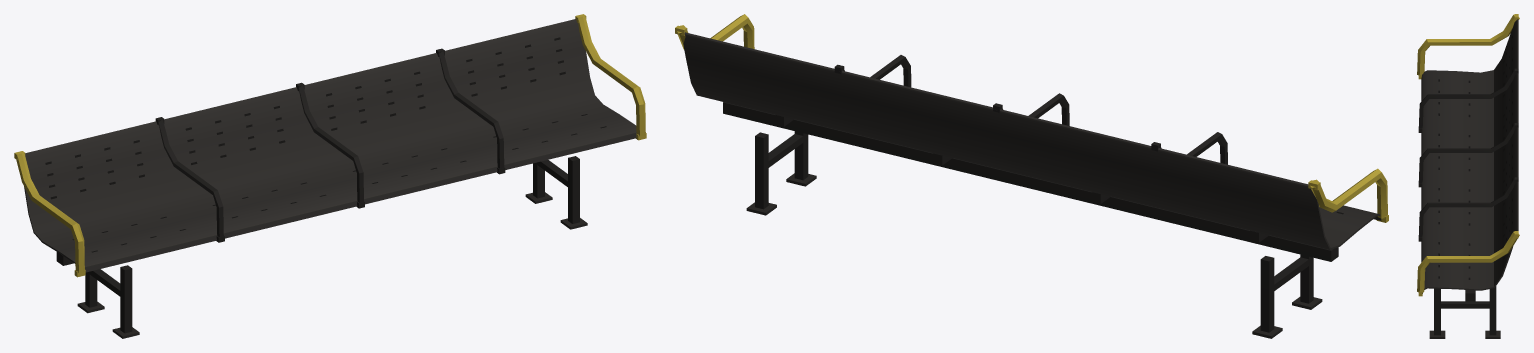
File: station_bench_long.glb
The picture shows the model from 3 angles, left to right: view 1: azimuth 30°, elevation 25°; view 2: azimuth 150°, elevation 25°; view 3: azimuth 270°, elevation 25°; orthographic projection. The views are drawn at different scales.
Visible parts, largest first — view 1: station_bench_long; view 2: station_bench_long; view 3: station_bench_long.
Boxes of the visible parts, x1,y1,x2,y2 form: station_bench_long: (14, 14, 646, 338); station_bench_long: (675, 14, 1388, 338); station_bench_long: (1417, 14, 1519, 338).
Bounding box in the file's own units: 3 × 0.7988 × 0.5924.
